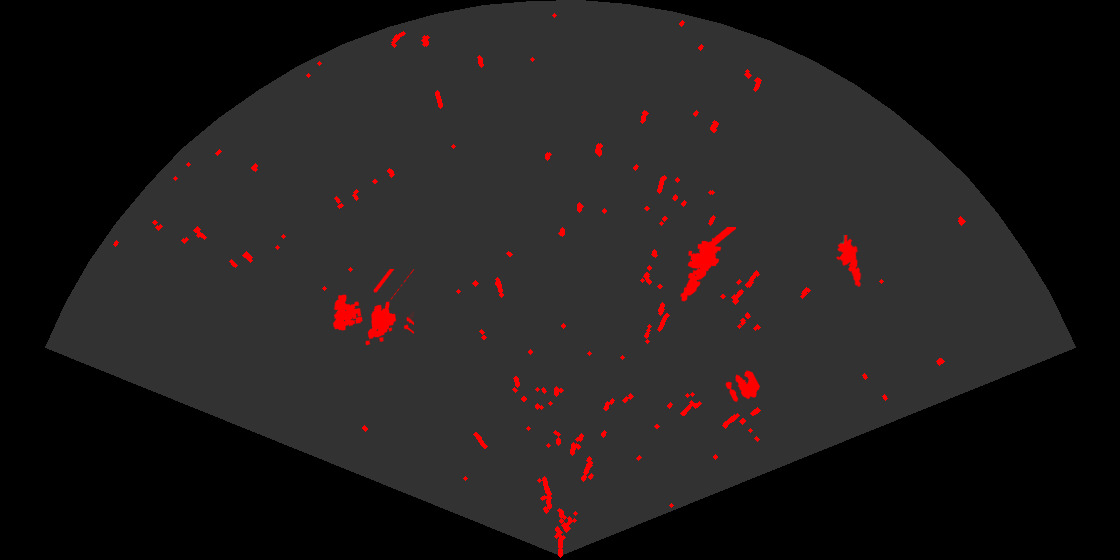ball: (724, 369, 762, 404)
cage: (331, 269, 414, 347)
frogman: (679, 227, 736, 303), (834, 235, 863, 287)
